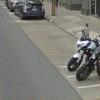Motorcycle: (60, 29, 100, 94)
